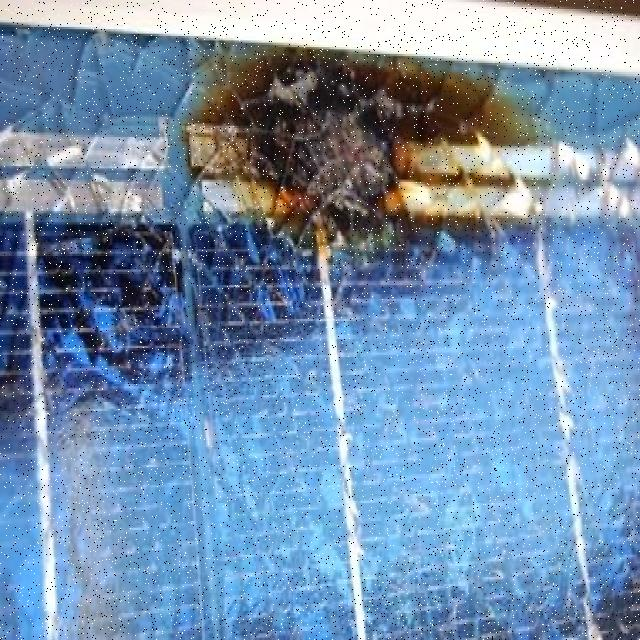electrical damage: (1, 4, 640, 429)
